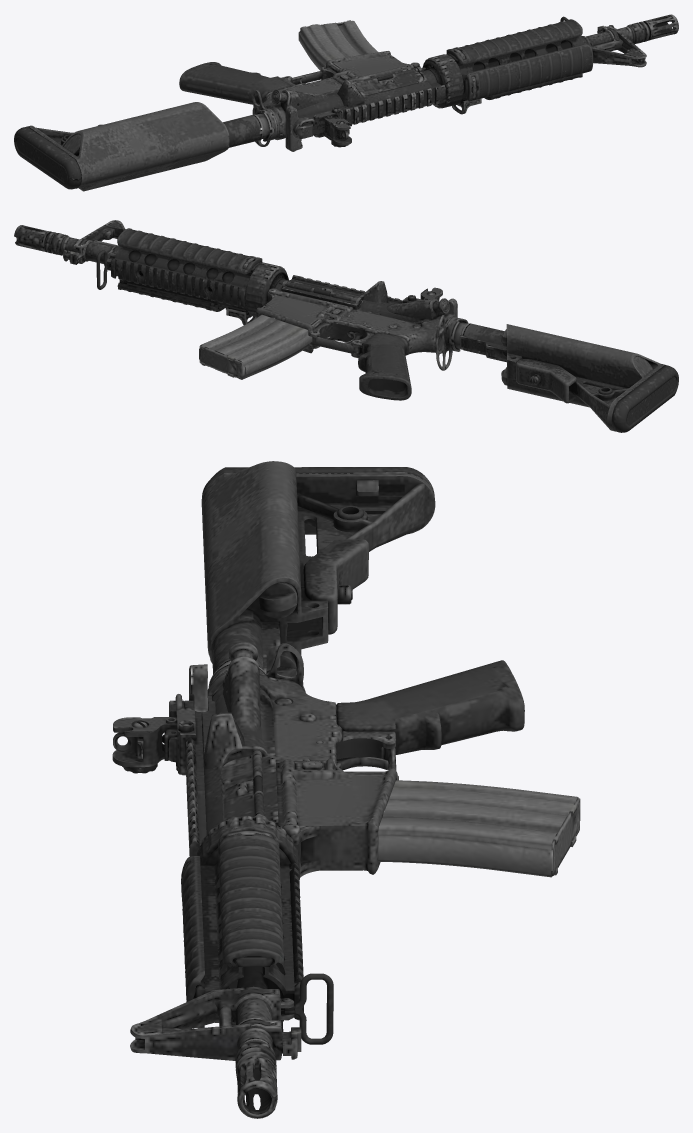
3 renders of one model, top to bottom at view 1: azimuth 30°, elevation 25°; view 2: azimuth 150°, elevation 25°; view 3: azimuth 270°, elevation 25°, orthographic. The views are drawn at different scales.
Visible parts, largest first — view 1: w_m4a4; view 2: w_m4a4; view 3: w_m4a4.
Part boxes in pixels (<box>): w_m4a4: <box>14,14,678,191</box>; w_m4a4: <box>14,220,678,432</box>; w_m4a4: <box>112,461,580,1118</box>.
Bounding box in the file's own units: 1.11 × 0.1149 × 0.3633.
Materials: 1 (1 with a texture image).
